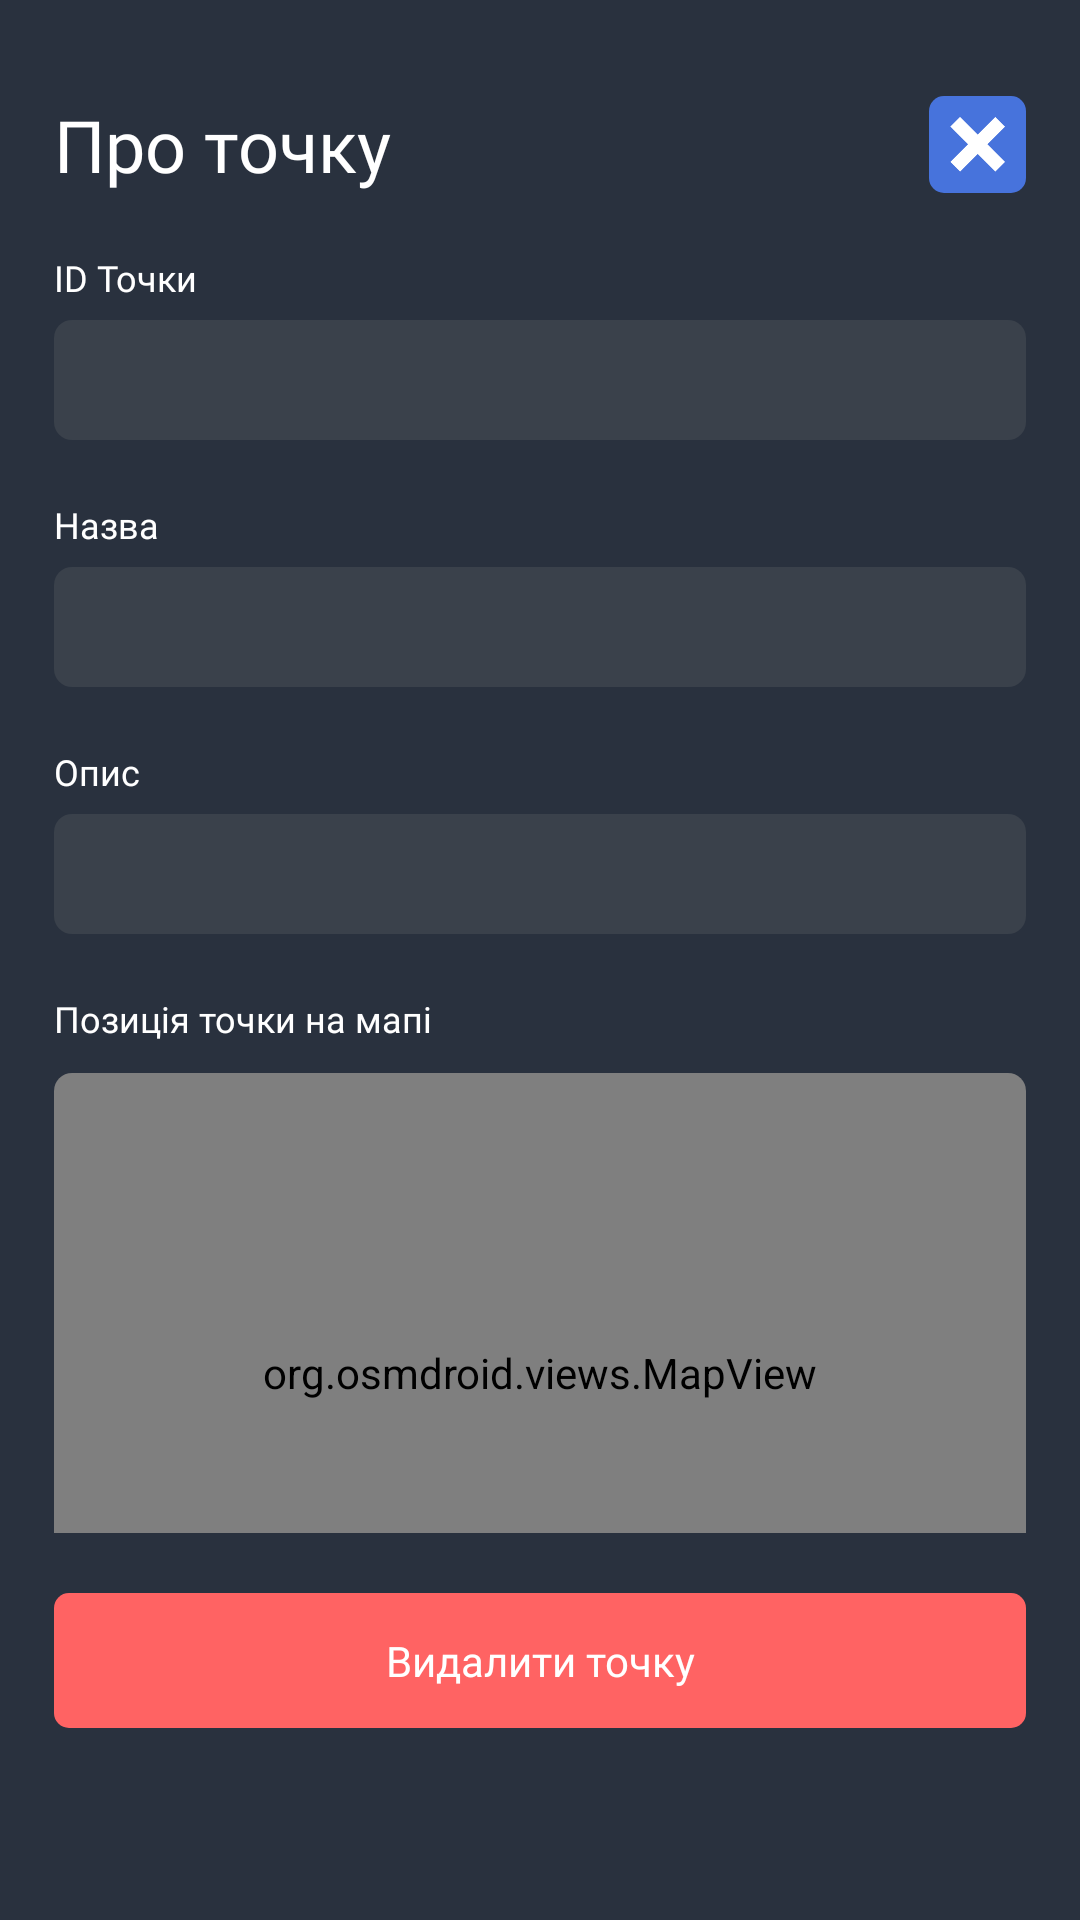

Icon click points for this 1080 x 1920 phone screenshot, format [x,y]:
cross: [977,144]
